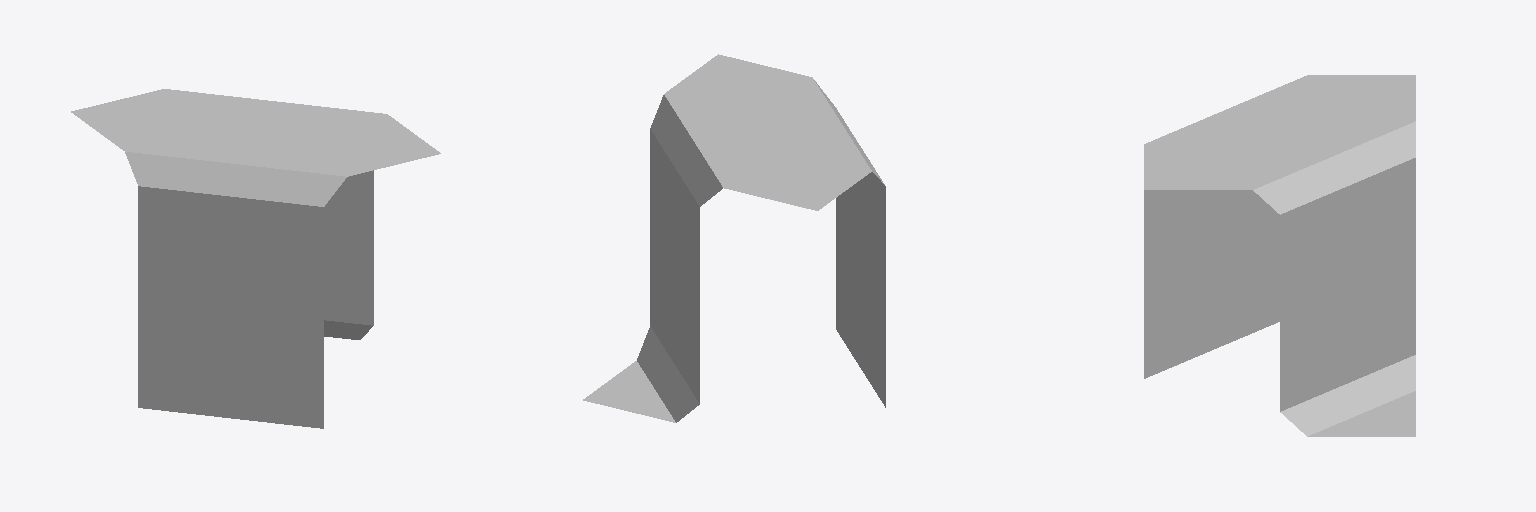
Rendered from esfs_wall_llaw_wall_llaw_efef.obj.
The picture shows the model from 3 angles: view 1: azimuth 30°, elevation 25°; view 2: azimuth 150°, elevation 25°; view 3: azimuth 270°, elevation 25°; orthographic projection.
Visible parts, largest first — view 1: esfs_wall_llaw_wall_llaw_efef_Plane.010; view 2: esfs_wall_llaw_wall_llaw_efef_Plane.010; view 3: esfs_wall_llaw_wall_llaw_efef_Plane.010.
Part boxes in pixels (bbox=[...]): esfs_wall_llaw_wall_llaw_efef_Plane.010: bbox=[71, 89, 440, 428]; esfs_wall_llaw_wall_llaw_efef_Plane.010: bbox=[583, 54, 885, 422]; esfs_wall_llaw_wall_llaw_efef_Plane.010: bbox=[1144, 75, 1415, 436].
Bounding box in the file's own units: 1 × 1 × 1.